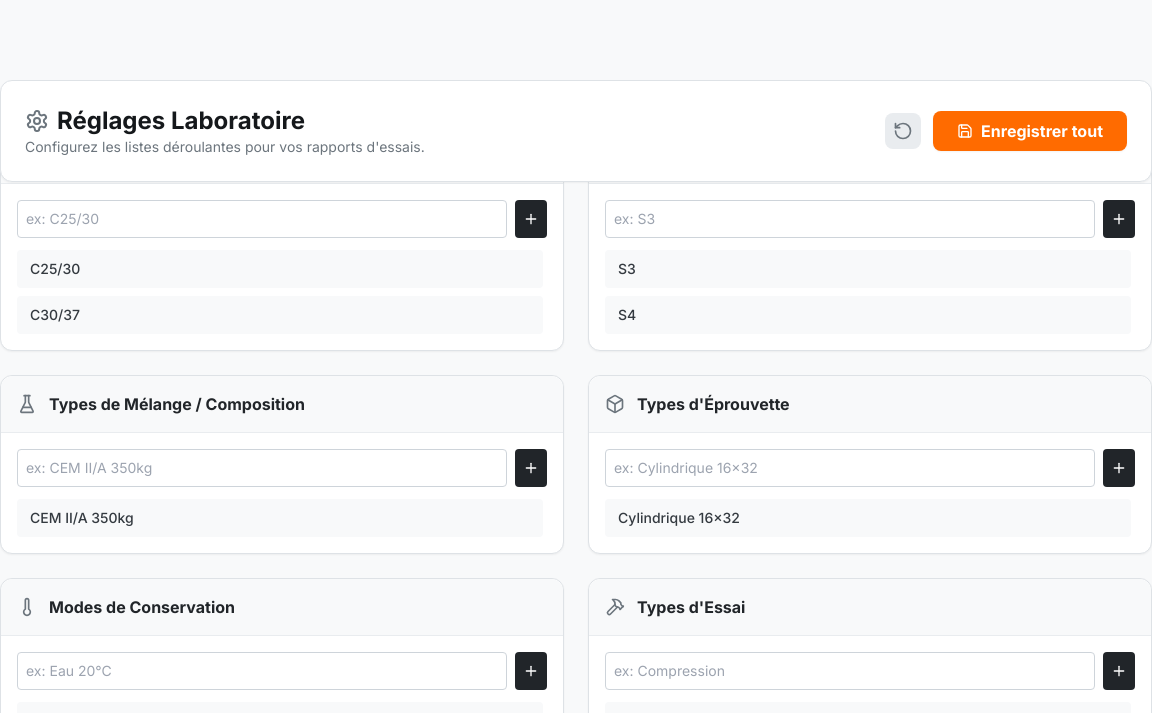
Test: SettingsManager Component › saves settings successfully
Expected: the heading "Classes de Résistance" is shown, [49,143,224,167]
Click the button "Enregistrer tout" at (1030, 131), box [933,111,1127,151]
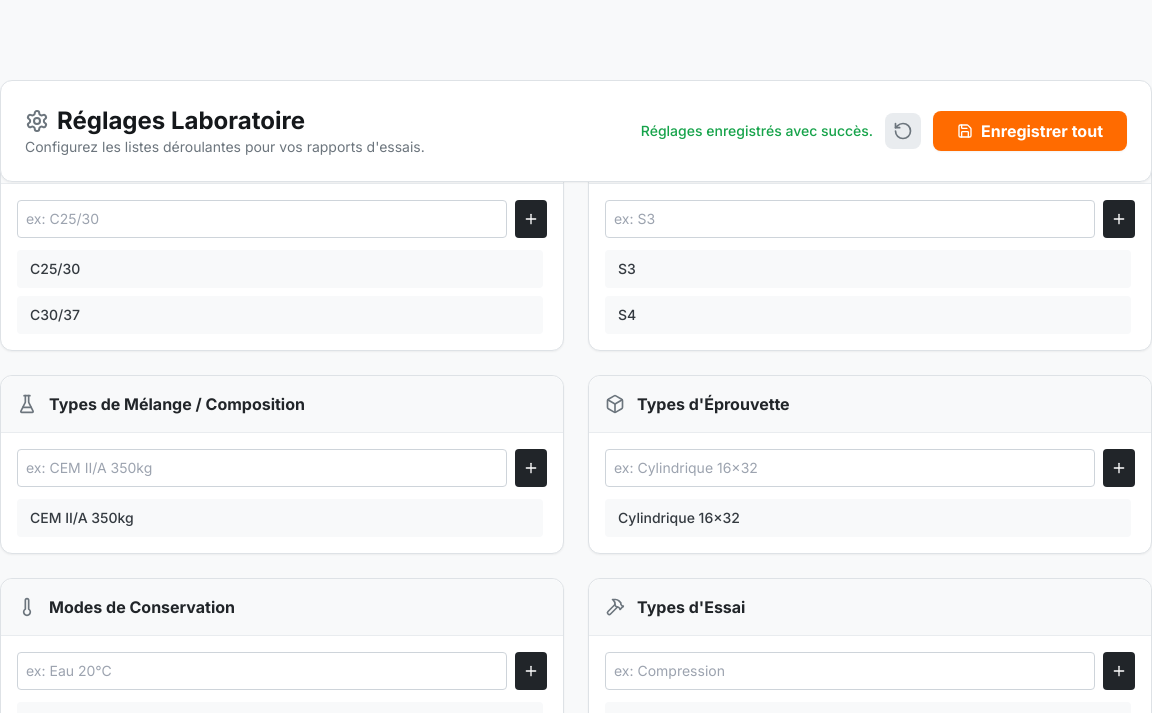
Expected: the text "Réglages enregistrés avec succès." is shown, [641,121,873,141]
